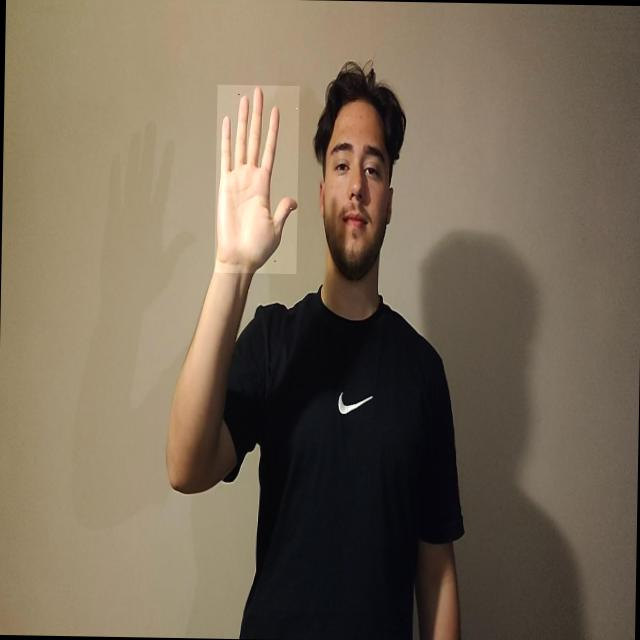hello: (214, 84, 299, 274)
